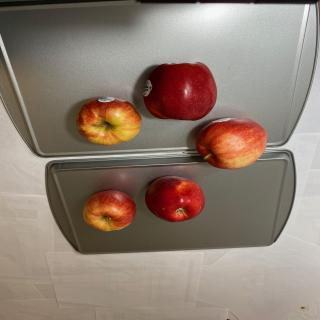Apple: (143, 61, 217, 120), (195, 117, 268, 169), (76, 96, 142, 146), (145, 175, 205, 222), (82, 190, 136, 232)
